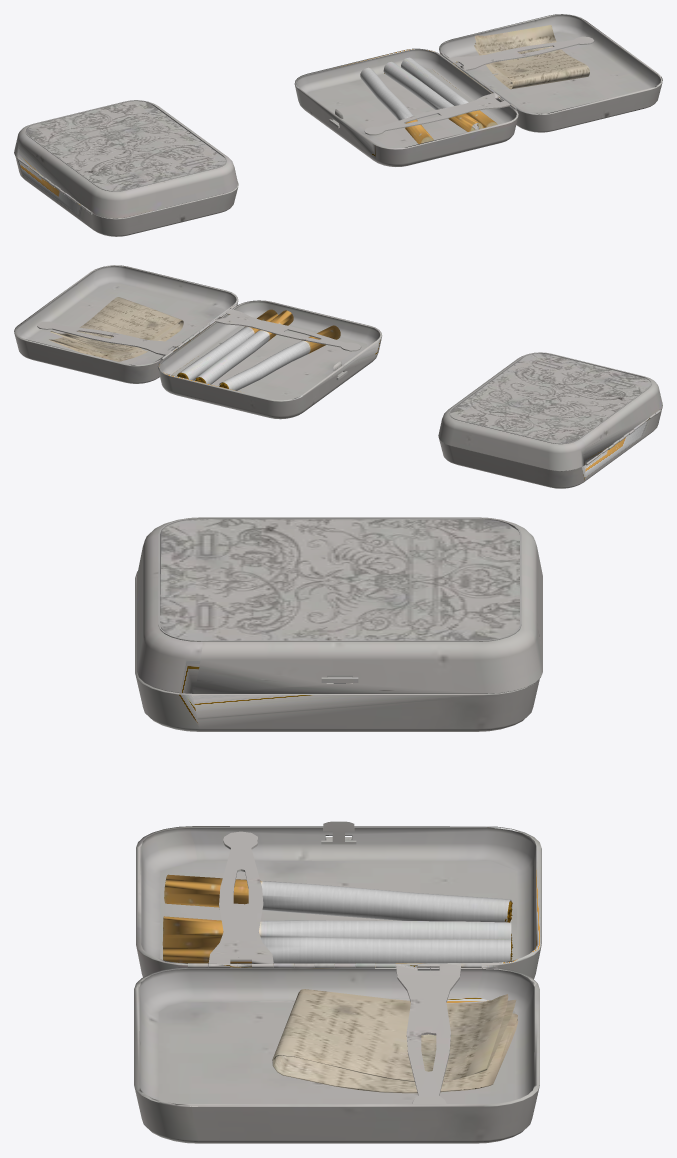
File: cigarette_case.glb
3 views of the same model, one above another, from view 1: azimuth 30°, elevation 25°; view 2: azimuth 150°, elevation 25°; view 3: azimuth 270°, elevation 25° (orthographic). The views are drawn at different scales.
Parts seen in each view (by area): view 1: cigarette_case_cover_b; view 2: cigarette_case_cover_b; view 3: cigarette_case_cover_b.
Part boxes in pixels (left/top/right/bottom): cigarette_case_cover_b: left=14, top=14, right=662, bottom=236; cigarette_case_cover_b: left=14, top=265, right=662, bottom=488; cigarette_case_cover_b: left=134, top=517, right=542, bottom=1143.
Size of the model in its own units: 0.3233 by 0.0245 by 0.1007.
1 material, 1 textured.
